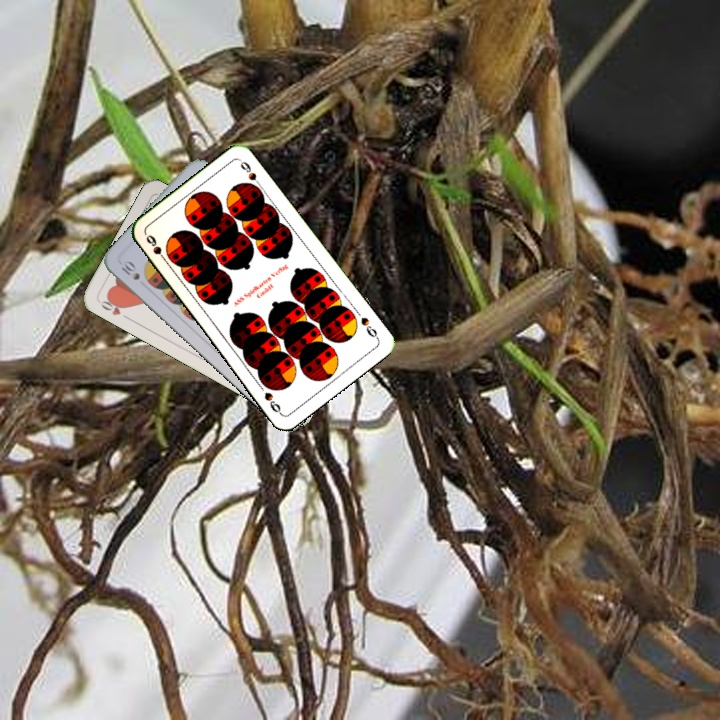HO: (95, 293, 132, 322)
S10: (117, 258, 142, 283)
S9: (142, 230, 171, 266), (357, 313, 381, 342)
